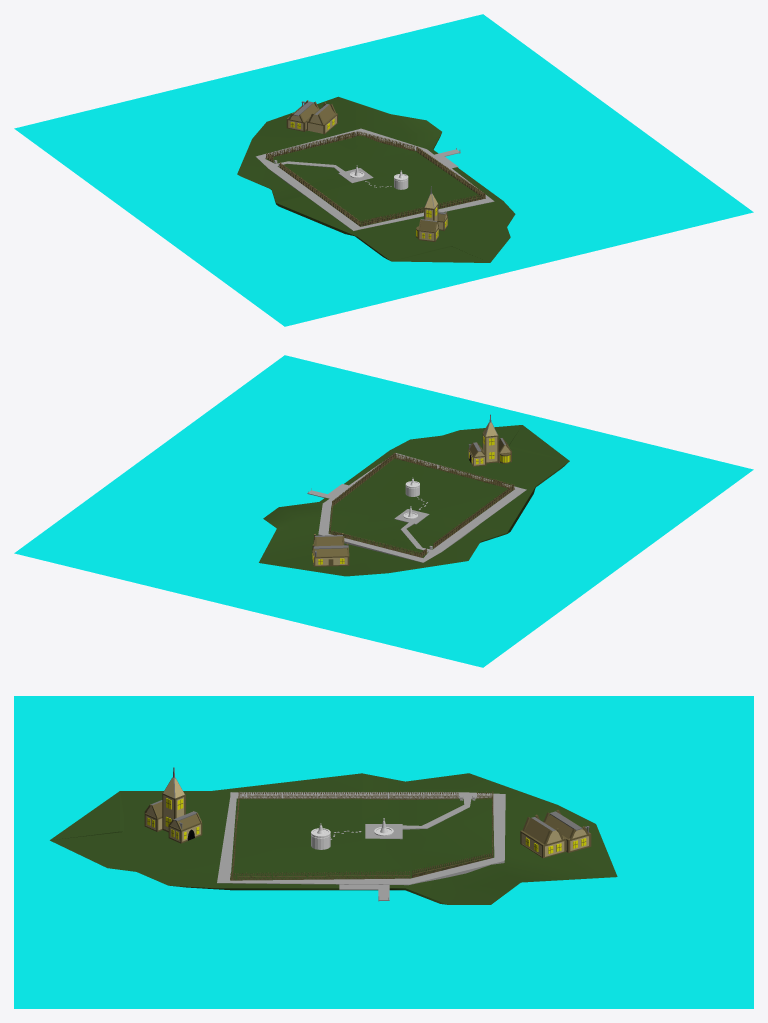
Rendered from gameprodmap.original.fbx.
The picture shows the model from 3 angles, top to bottom: view 1: azimuth 30°, elevation 25°; view 2: azimuth 150°, elevation 25°; view 3: azimuth 270°, elevation 25°; orthographic projection. The views are drawn at different scales.
Parts seen in each view (by area): view 1: pPlane1, IslandDemo:pCube1, IslandDemo:pCube2; view 2: pPlane1, IslandDemo:pCube1, IslandDemo:pCube2; view 3: pPlane1, IslandDemo:pCube1, IslandDemo:pCube2, pCube9, pCube15.
Boxes of the visible parts, left/top/right/bottom form: pPlane1: left=14, top=14, right=753, bottom=326; IslandDemo:pCube1: left=237, top=96, right=515, bottom=262; IslandDemo:pCube2: left=255, top=128, right=494, bottom=230; pPlane1: left=14, top=355, right=753, bottom=667; IslandDemo:pCube1: left=259, top=425, right=569, bottom=576; IslandDemo:pCube2: left=318, top=453, right=526, bottom=562; pPlane1: left=14, top=696, right=753, bottom=1008; IslandDemo:pCube1: left=50, top=773, right=617, bottom=904; IslandDemo:pCube2: left=217, top=792, right=505, bottom=885; pCube9: left=544, top=811, right=586, bottom=839; pCube15: left=524, top=817, right=563, bottom=843.
Size of the model in its own units: 237 by 31.67 by 237.
